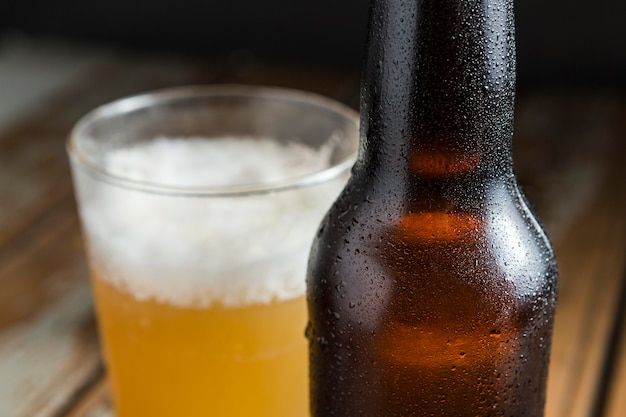alcohol: (308, 2, 558, 417), (66, 80, 372, 417)
